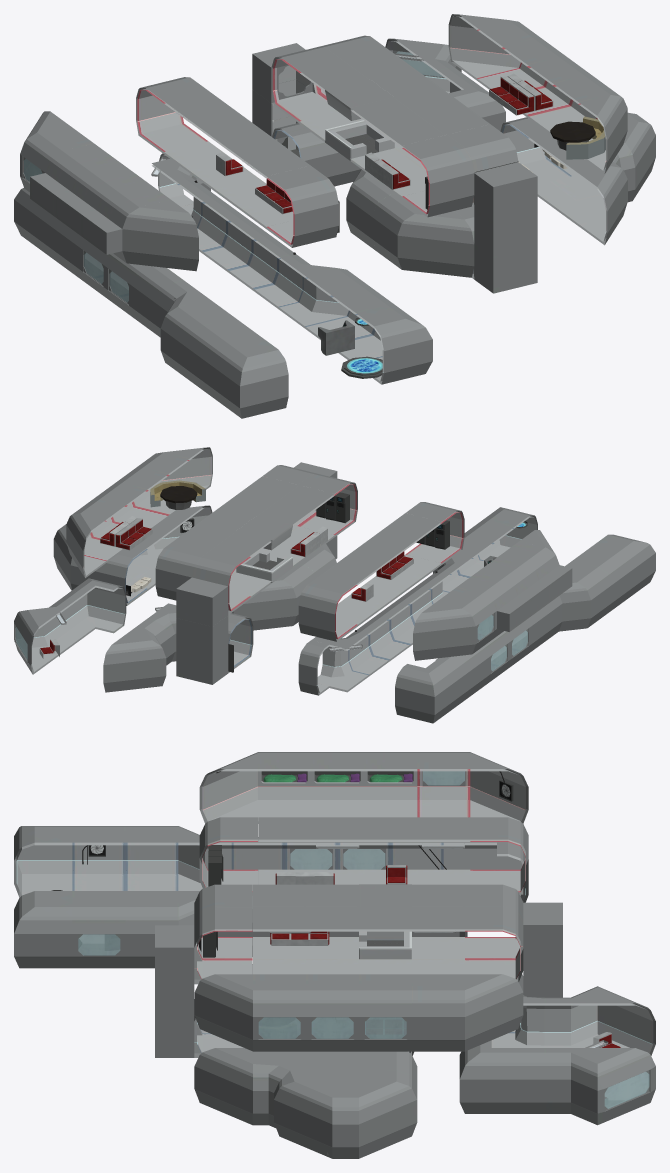
Rendered from space_station.glb.
The picture shows the model from 3 angles, top to bottom: view 1: azimuth 30°, elevation 25°; view 2: azimuth 150°, elevation 25°; view 3: azimuth 270°, elevation 25°; orthographic projection. The views are drawn at different scales.
Parts seen in each view (by area): view 1: Building_blinn1SG1_0, Building_FullFloor_blinn1SG1_0, Building_FullBed_blinn3SG1_0, Building_BottomElevator_blinn4SG1_0, Building_blinn5SG1_0, Building_blinn4SG1_0, Building_blinn2SG1_0; view 2: Building_blinn1SG1_0, Building_FullFloor_blinn1SG1_0, Building_blinn4SG1_0, Building_FullBed_blinn3SG1_0, Building_blinn5SG1_0, Building_blinn6SG1_0, Building_blinn2SG1_0, Building_BottomElevator_blinn4SG1_0; view 3: Building_blinn1SG1_0, Building_FullFloor_blinn1SG1_0, Building_FullBed_blinn3SG1_0, Building_blinn4SG1_0, Building_BottomElevator_blinn4SG1_0, Building_blinn2SG1_0, Building_blinn5SG1_0, Building_FullWindow_blinn2SG1_0, Building_blinn6SG1_0.
Boxes of the visible parts, left/top/right/bottom form: Building_blinn1SG1_0: left=14, top=38, right=655, bottom=418; Building_FullFloor_blinn1SG1_0: left=20, top=14, right=627, bottom=271; Building_FullBed_blinn3SG1_0: left=30, top=143, right=170, bottom=262; Building_BottomElevator_blinn4SG1_0: left=474, top=162, right=537, bottom=293; Building_blinn5SG1_0: left=151, top=53, right=651, bottom=378; Building_blinn4SG1_0: left=252, top=43, right=394, bottom=161; Building_blinn2SG1_0: left=84, top=51, right=443, bottom=302; Building_blinn1SG1_0: left=14, top=505, right=655, bottom=723; Building_FullFloor_blinn1SG1_0: left=66, top=447, right=554, bottom=660; Building_blinn4SG1_0: left=176, top=516, right=292, bottom=684; Building_FullBed_blinn3SG1_0: left=457, top=541, right=572, bottom=638; Building_blinn5SG1_0: left=39, top=480, right=527, bottom=660; Building_blinn6SG1_0: left=316, top=492, right=449, bottom=549; Building_blinn2SG1_0: left=15, top=627, right=527, bottom=671; Building_BottomElevator_blinn4SG1_0: left=294, top=462, right=337, bottom=558; Building_blinn1SG1_0: left=14, top=826, right=655, bottom=1158; Building_FullFloor_blinn1SG1_0: left=194, top=752, right=528, bottom=1051; Building_FullBed_blinn3SG1_0: left=258, top=752, right=417, bottom=823; Building_blinn4SG1_0: left=359, top=884, right=562, bottom=997; Building_BottomElevator_blinn4SG1_0: left=155, top=925, right=194, bottom=1057; Building_blinn2SG1_0: left=78, top=849, right=649, bottom=1108; Building_blinn5SG1_0: left=51, top=771, right=621, bottom=1155; Building_FullWindow_blinn2SG1_0: left=258, top=771, right=464, bottom=1038; Building_blinn6SG1_0: left=203, top=845, right=223, bottom=957.
Size of the model in its own units: 13.2 by 2.68 by 12.1.
11 materials, 11 textured.
